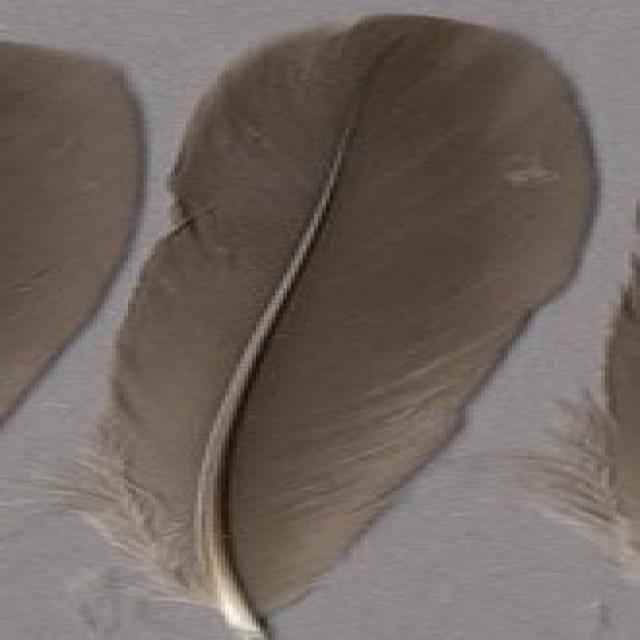feather: (89, 11, 601, 640)
